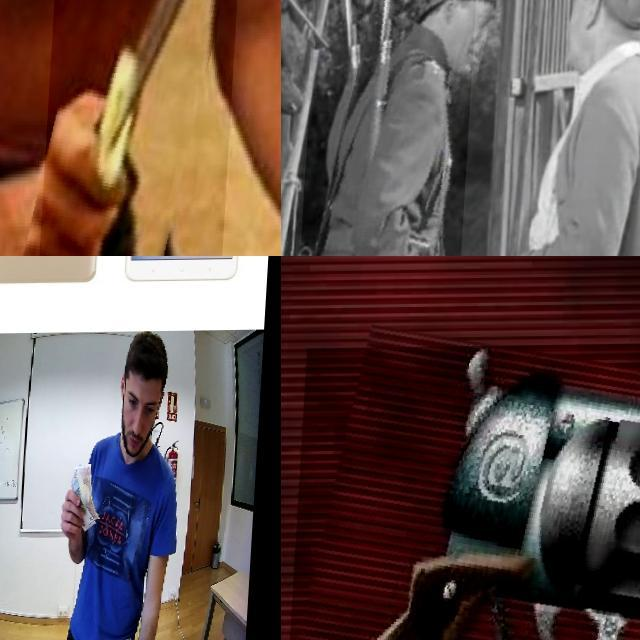-: (43, 0, 252, 256)
gun-knife-thesis - v11 Yolov5 augmented: (284, 341, 640, 640), (295, 0, 479, 256)
